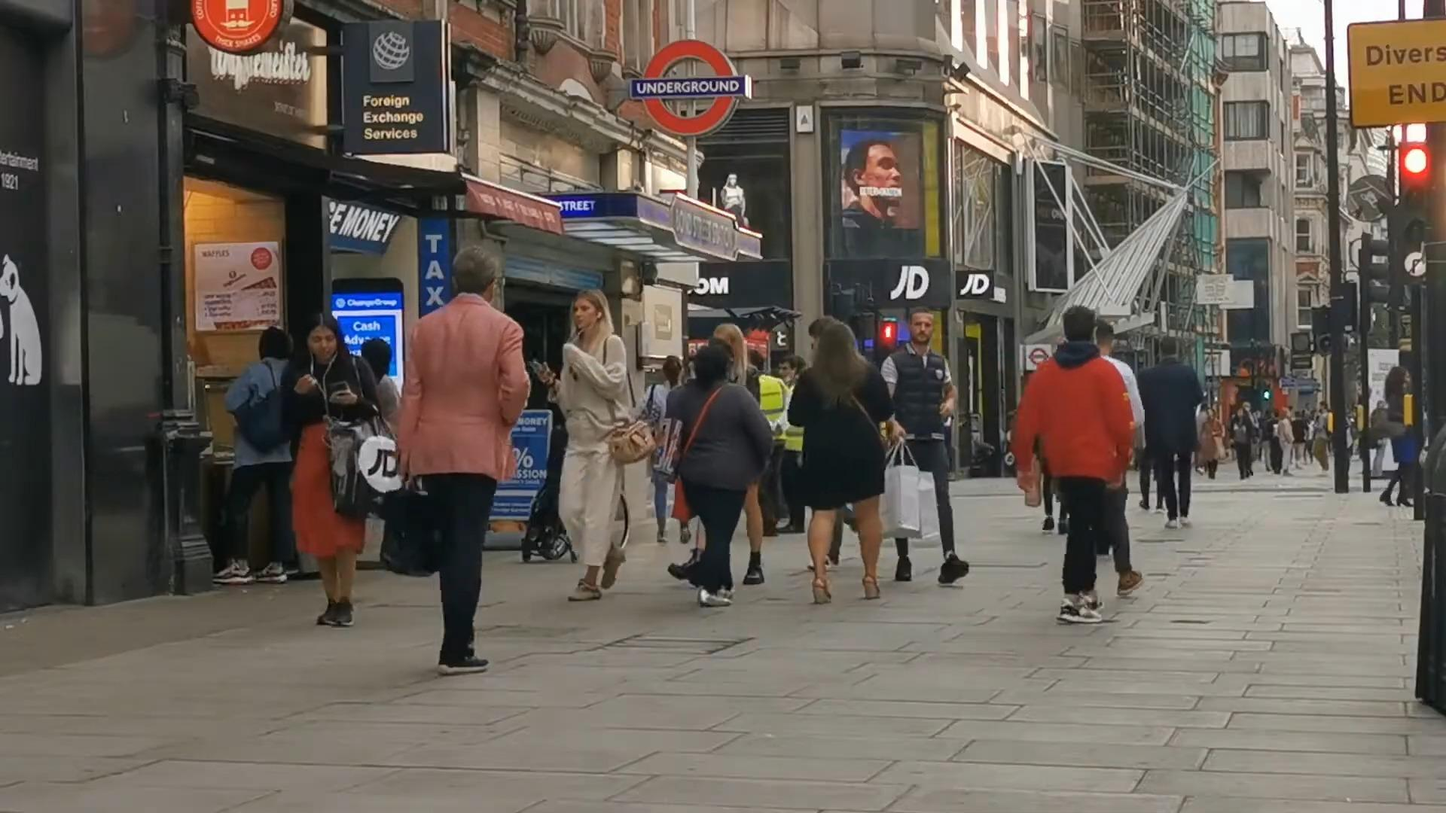no-helmet: (813, 320, 866, 374), (452, 245, 496, 304), (299, 312, 347, 361), (570, 289, 615, 335), (693, 344, 731, 394), (1062, 304, 1097, 341), (909, 307, 934, 346), (775, 353, 799, 383), (1096, 319, 1115, 356), (662, 355, 682, 387), (1160, 335, 1177, 358)
